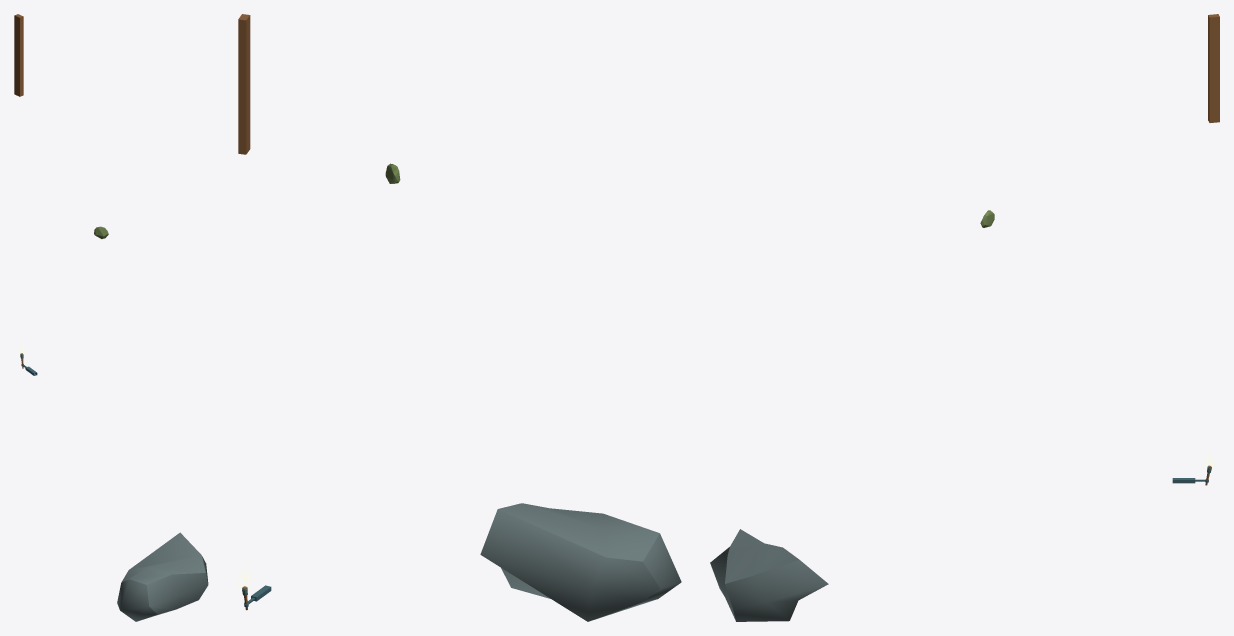
3 views of the same model, side by side, from view 1: azimuth 30°, elevation 25°; view 2: azimuth 150°, elevation 25°; view 3: azimuth 270°, elevation 25° (orthographic). The views are drawn at different scales.
Parts seen in each view (by area): view 1: Box570_rock_0, Box583_brown_0; view 2: Box570_rock_0, Box583_brown_0; view 3: Box570_rock_0, Box583_brown_0.
Boxes of the visible parts, box(x1,y1,x2,y2) form: Box570_rock_0: box(117, 532, 208, 621); Box583_brown_0: box(14, 14, 23, 96); Box570_rock_0: box(480, 503, 681, 621); Box583_brown_0: box(238, 14, 250, 154); Box570_rock_0: box(710, 529, 828, 621); Box583_brown_0: box(1208, 14, 1219, 122).
Bounding box in the file's own units: 571 × 2600 × 1930.
